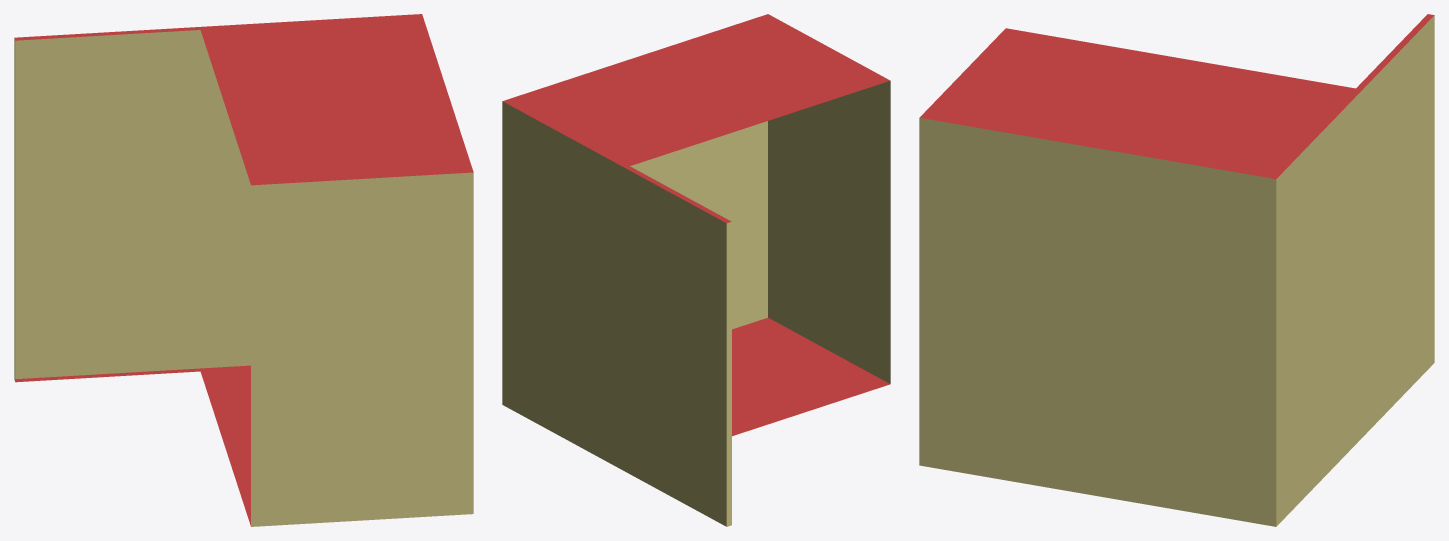
3 views of the same model, side by side, from view 1: azimuth 30°, elevation 25°; view 2: azimuth 150°, elevation 25°; view 3: azimuth 270°, elevation 25° (orthographic). The views are drawn at different scales.
Size of the model in its own units: 6.35 by 8.36 by 6.23.
